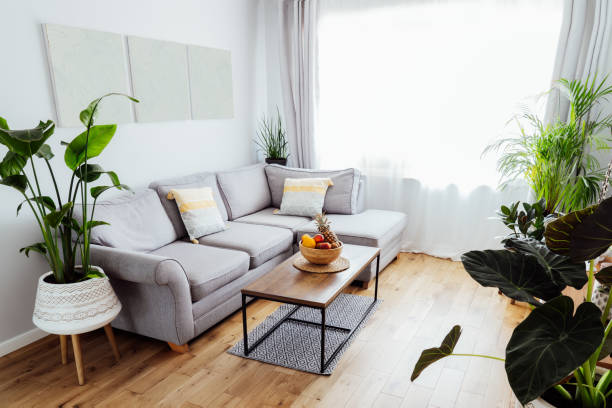large plant: (0, 94, 127, 386), (464, 208, 612, 408), (512, 80, 607, 232)
small plant: (256, 104, 292, 164)
sofa: (51, 159, 408, 355)
table: (239, 236, 381, 372)
wall art: (39, 20, 135, 130), (127, 32, 191, 128), (188, 41, 235, 123)
